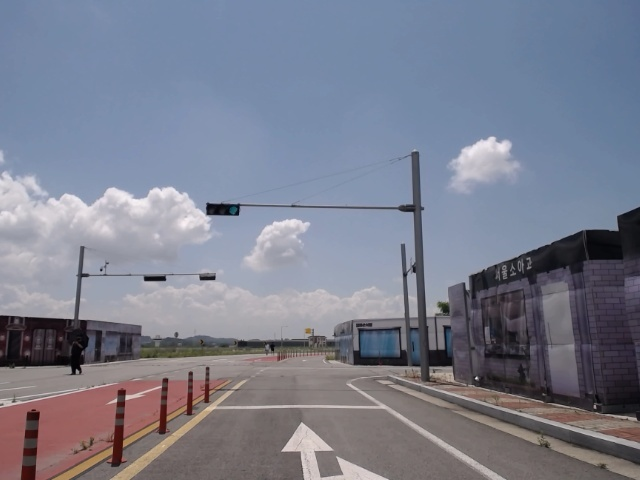green_3: (207, 203, 239, 216)
